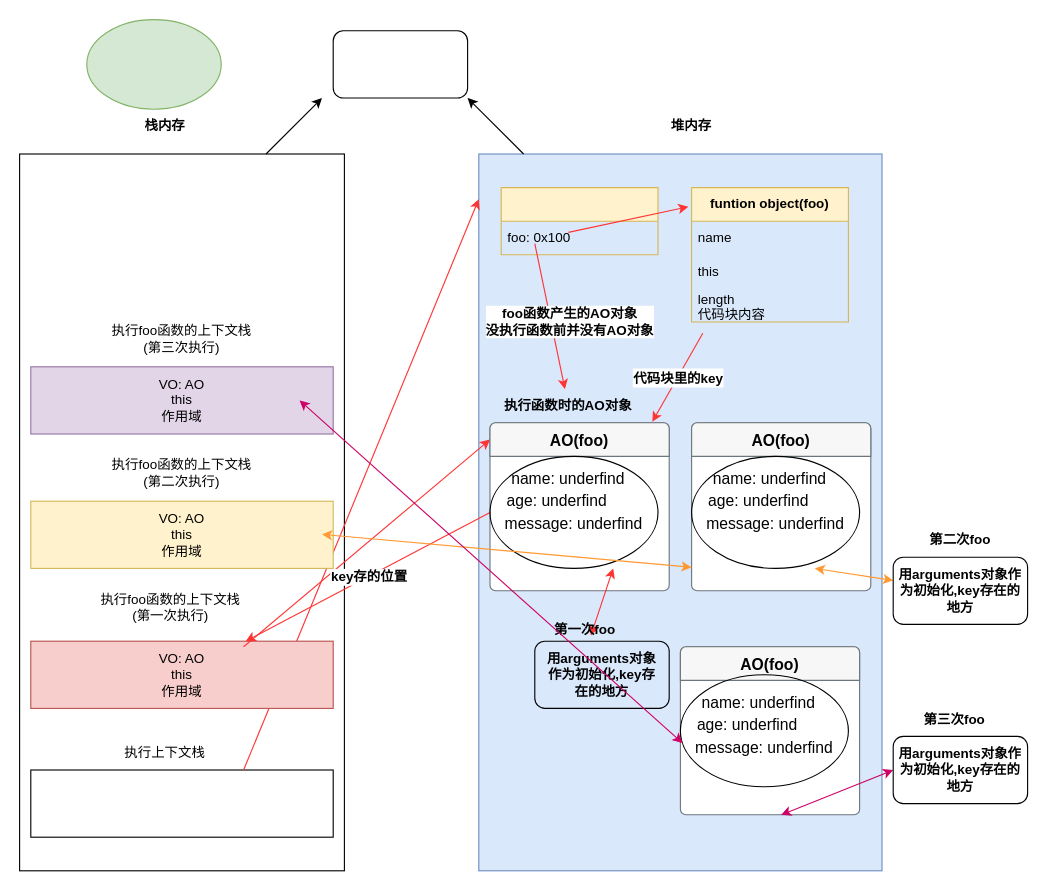
This 1053x890 diagram has some shape labels left out. The shapes that lost their labels are listed below. From the top down, each one's box as (x1, y1, x2, y2) in pixels, then its label:
(86, 18, 221, 109): 当执行完该上文栈时,该栈会弹出栈内存
(332, 30, 468, 98): 函数多次执行前流程
(500, 186, 658, 255): GO(window)
(30, 769, 333, 837): VO: GO this 作用域
